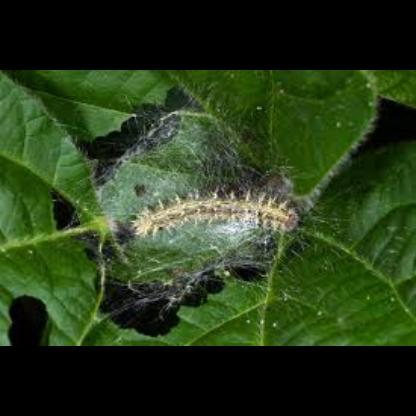oruga: (108, 156, 308, 258)
